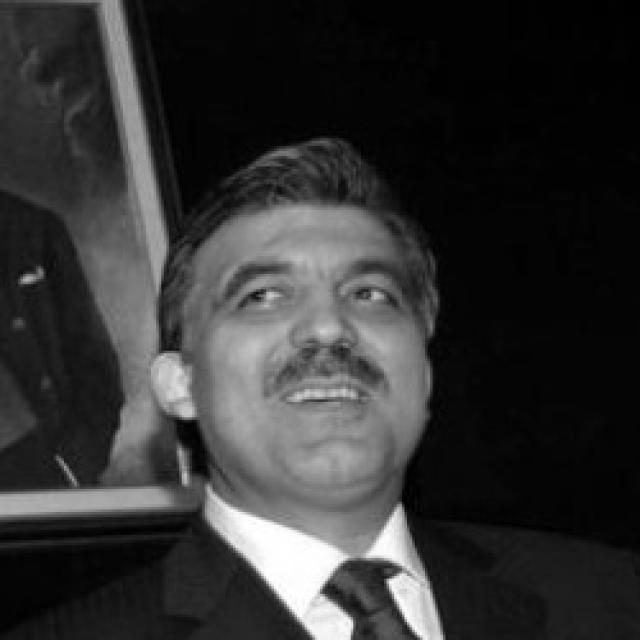real: (152, 138, 456, 504), (206, 274, 420, 328)
